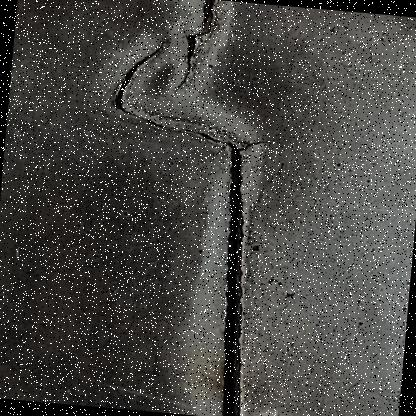Crack: (28, 0, 396, 415)
